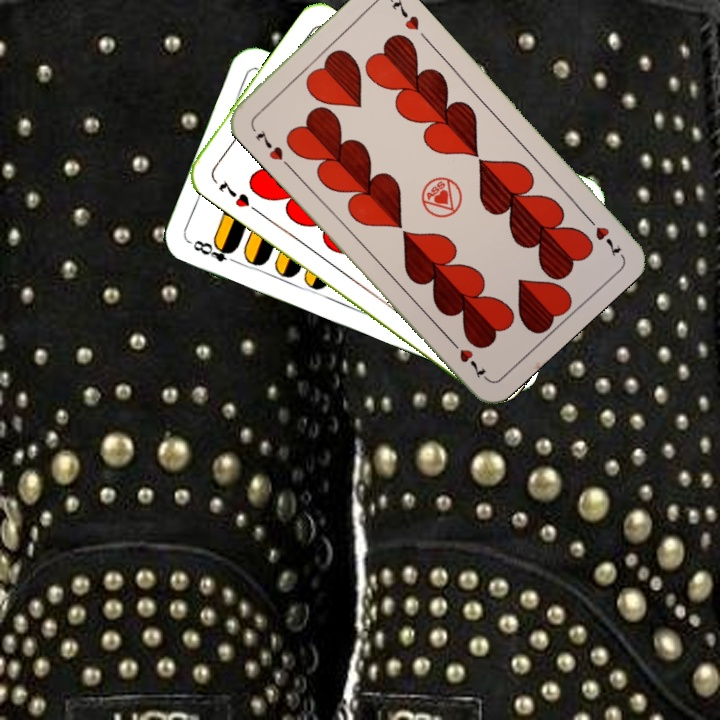E8: (186, 236, 242, 267)
H7: (580, 210, 625, 260), (214, 176, 252, 210), (252, 125, 286, 163)
